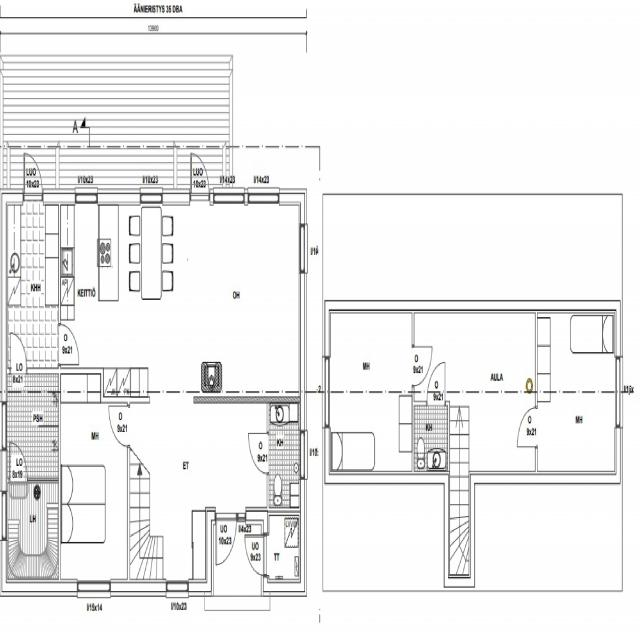door: (216, 507, 236, 569), (24, 149, 43, 205), (243, 535, 269, 575), (191, 149, 209, 205), (108, 406, 130, 446), (58, 324, 79, 364), (428, 362, 446, 406), (249, 434, 269, 473), (518, 408, 538, 446), (412, 347, 432, 385), (10, 441, 27, 482), (10, 333, 27, 373)
